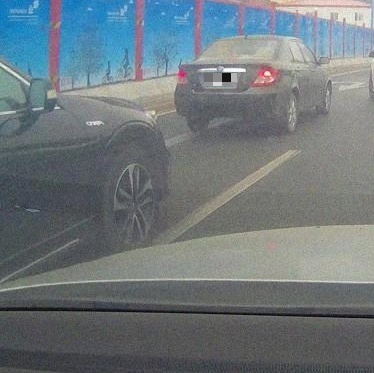L_light: (176, 69, 190, 85)
R_light: (250, 66, 280, 87)
T_light: (239, 37, 253, 41)
day-right: (173, 35, 287, 132)
plate_1: (204, 73, 237, 86)
